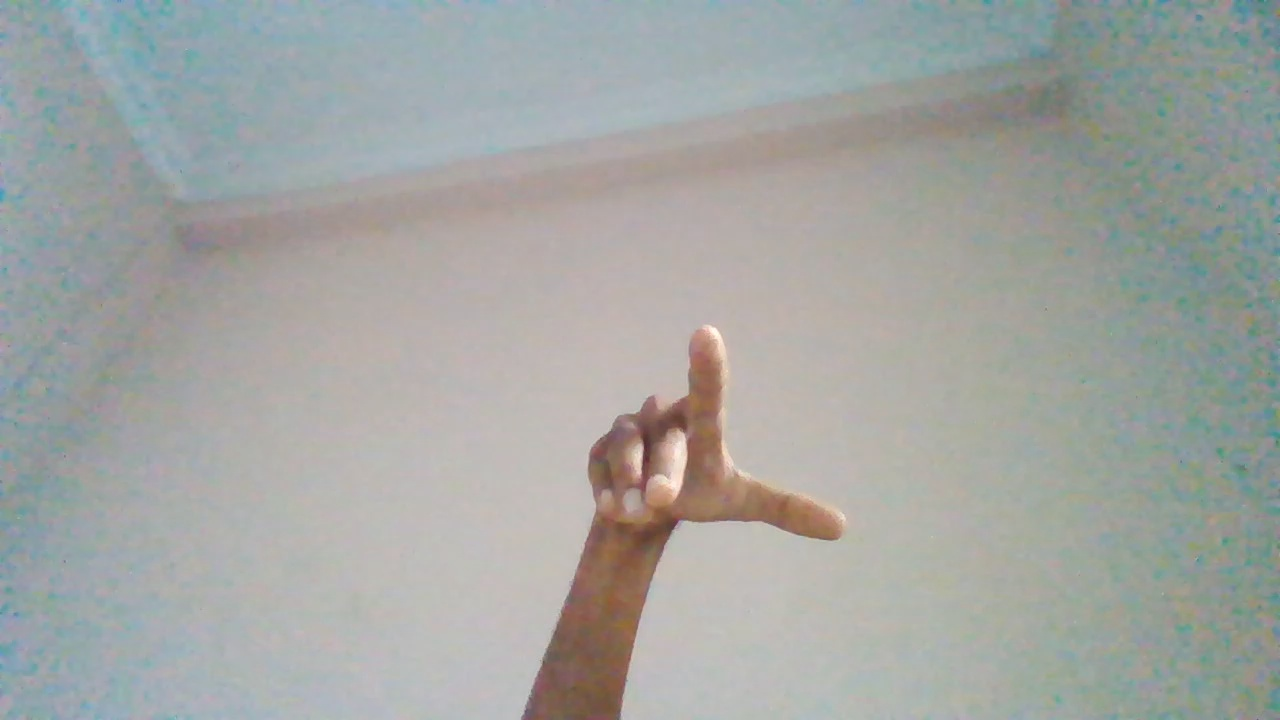ke: (567, 319, 853, 707)
